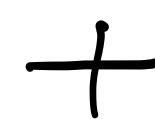plus: (27, 20, 155, 119)
